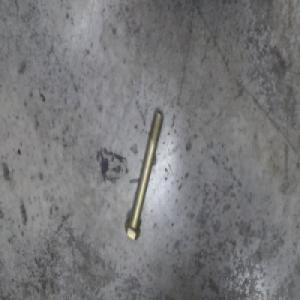Bolt: (124, 100, 163, 240)
